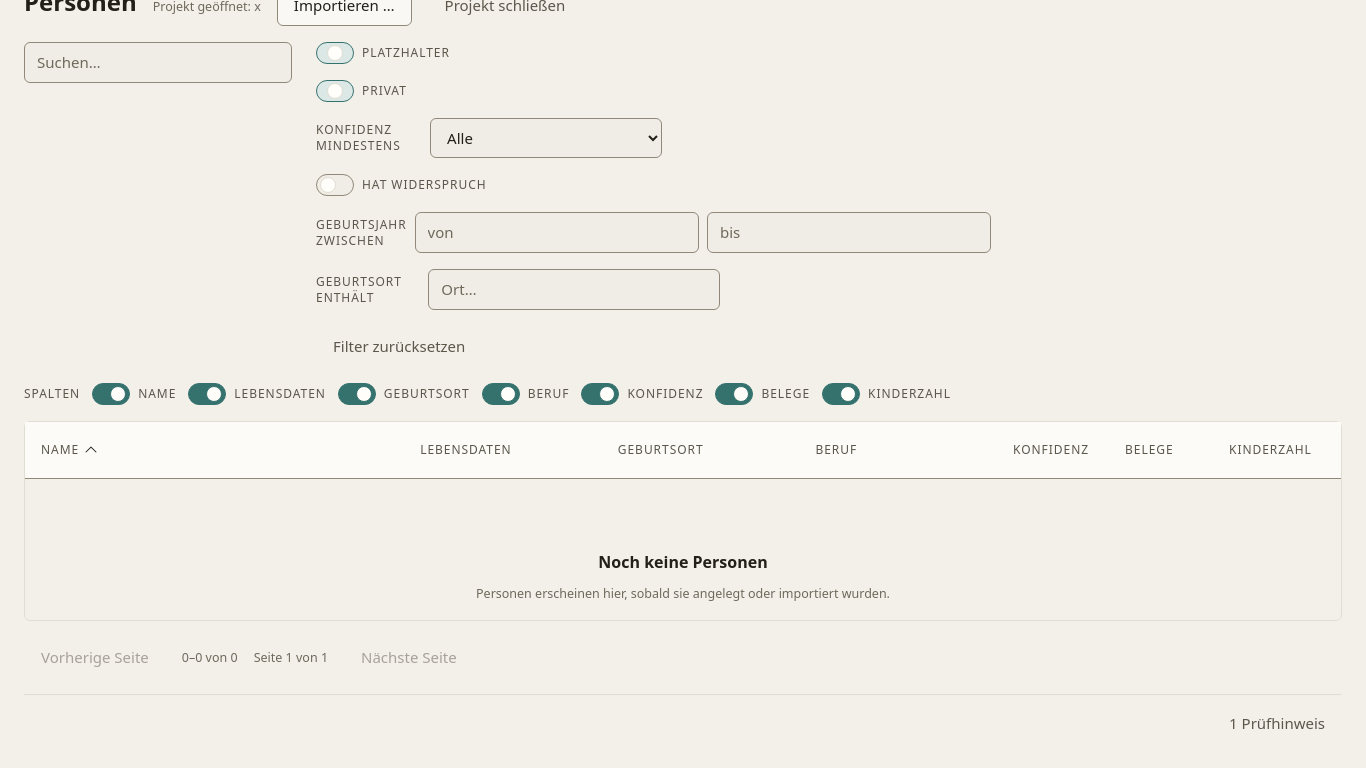
Test case: Aufrufstellen nach Interaktion zeigen „(ohne Namen)" (hueter #152, §32 V-4-ohne-namen) › Prüfhinweis-Schublade: ein Eintrag mit leerem Anzeigenamen zeigt „(ohne Namen)"
(page scrolled)
Click the button "1 Prüfhinweis" at (1277, 724), box [1212,703,1342,744]
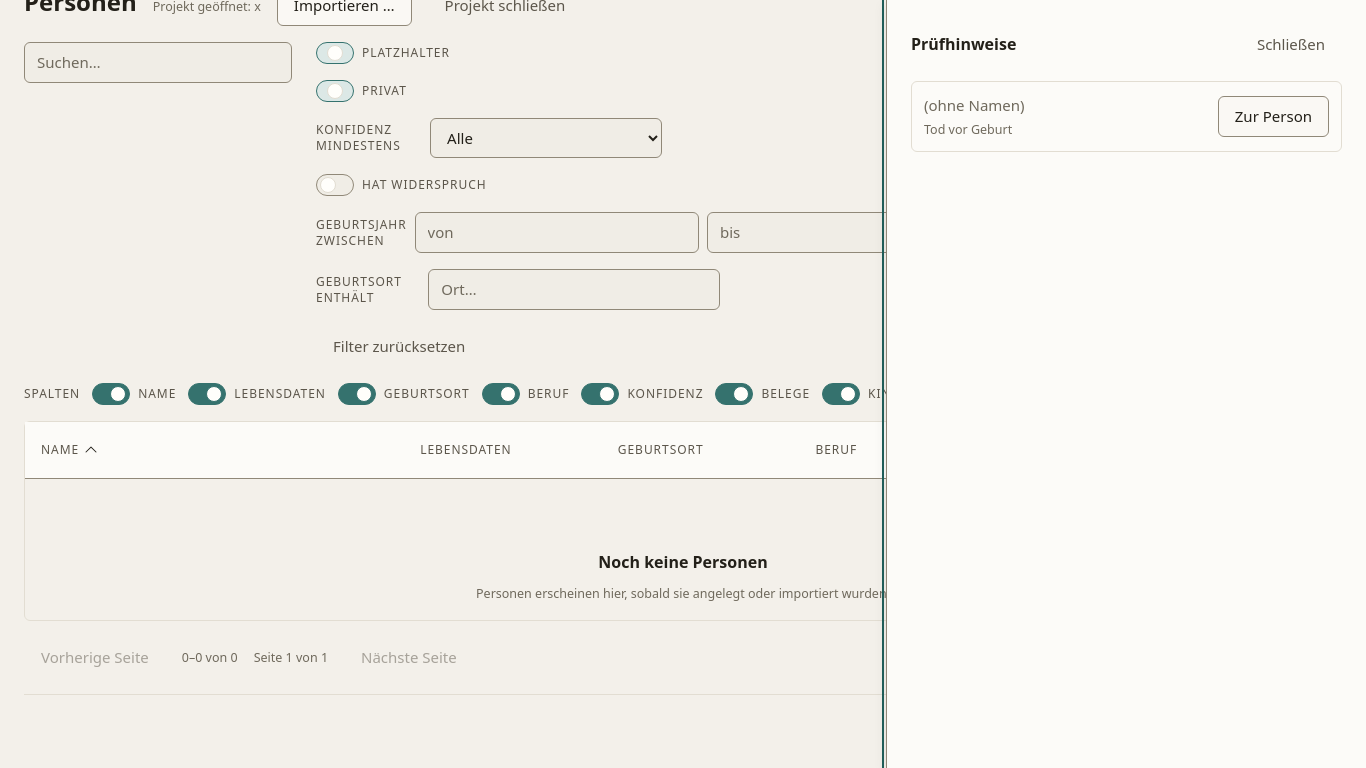
Check: the element with class "wz-pruefhinweis-liste__text" shows "(ohne Namen)", box [924,95,1024,115]
